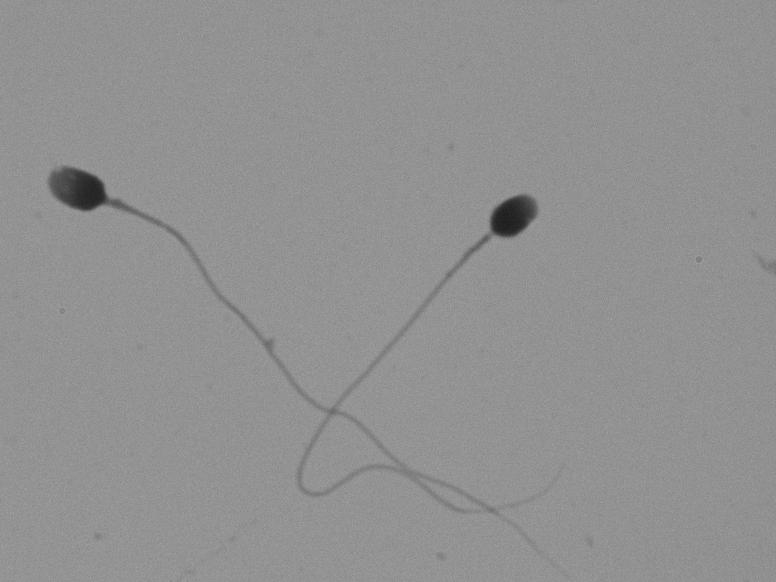Abnormal: (30, 143, 274, 406)
Normal: (284, 179, 606, 535)
